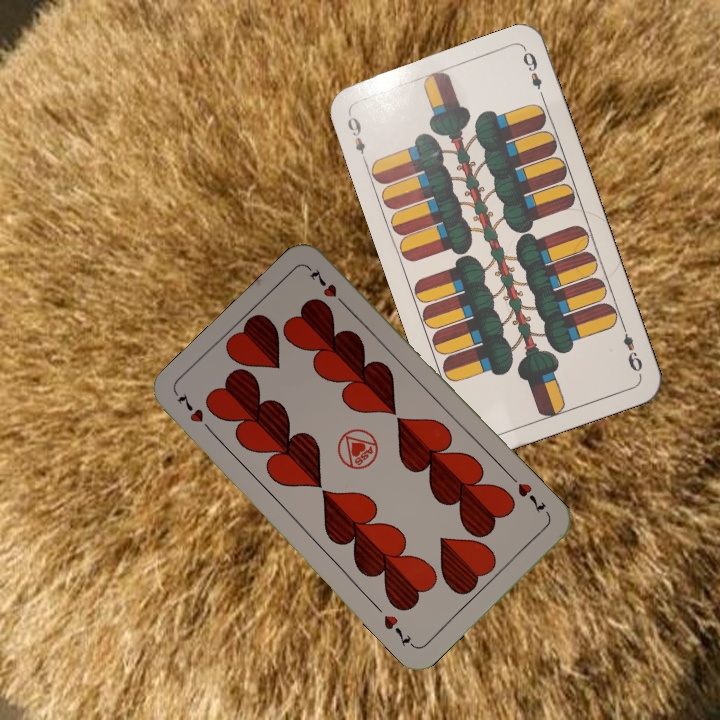E9: (617, 320, 646, 375), (343, 109, 370, 166)
H7: (173, 390, 217, 438), (513, 479, 548, 516)
